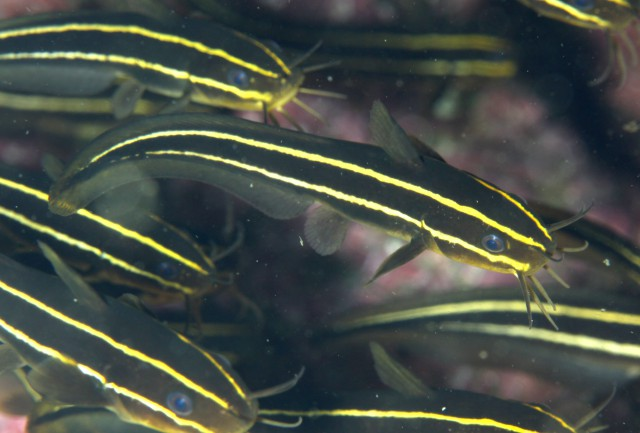gonzui: (30, 90, 584, 311)
